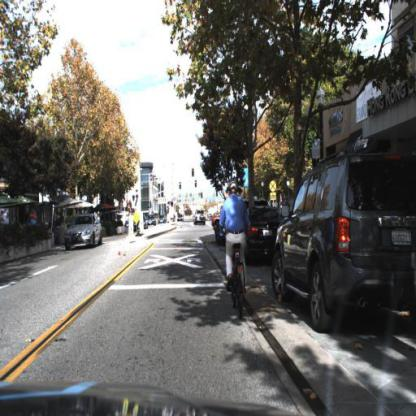biker: (222, 177, 247, 321)
car: (271, 148, 416, 333), (245, 199, 278, 272), (64, 212, 104, 252)
pedestrian: (31, 209, 41, 231), (30, 211, 39, 228)
